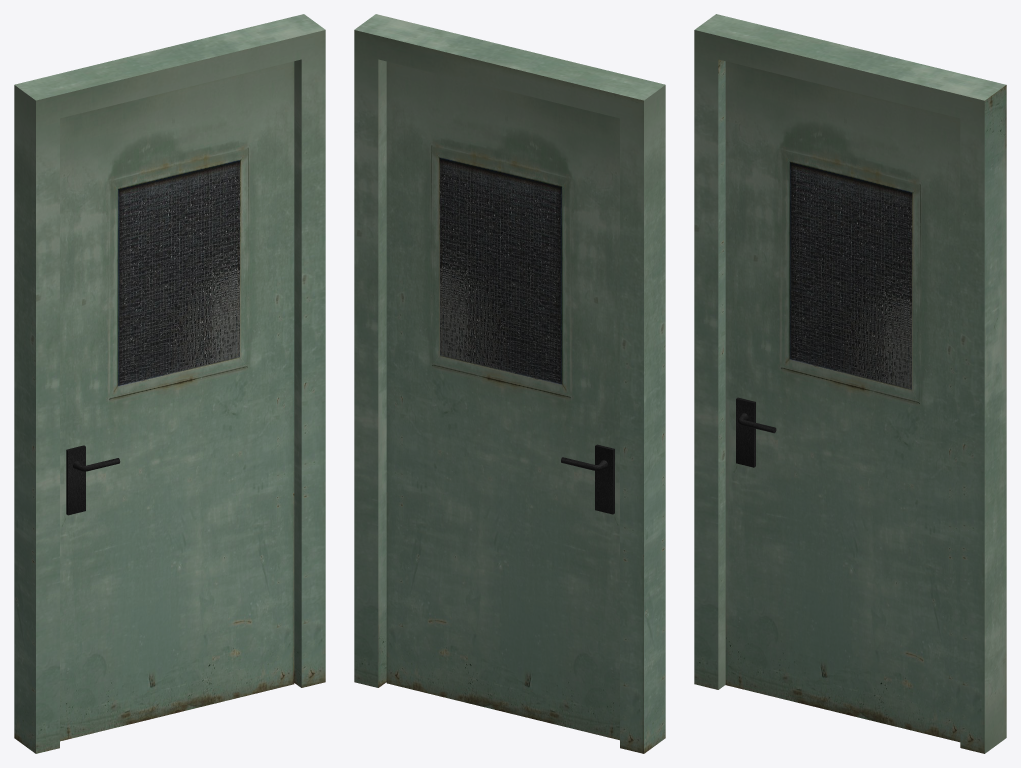
The model's file is Door.FBX.
3 views of the same model, side by side, from view 1: azimuth 30°, elevation 25°; view 2: azimuth 150°, elevation 25°; view 3: azimuth 330°, elevation 25° (orthographic).
Visible parts, largest first — view 1: Door, door frame; view 2: Door, door frame; view 3: Door, door frame.
Boxes of the visible parts, x1,y1,x2,y2 form: Door: (60, 61, 294, 741); door frame: (14, 14, 325, 753); Door: (386, 61, 619, 740); door frame: (354, 14, 665, 753); Door: (725, 61, 960, 742); door frame: (694, 14, 1006, 753).
Bounding box in the file's own units: 96.56 × 208 × 15.12.
Materials: 1 (1 with a texture image).
